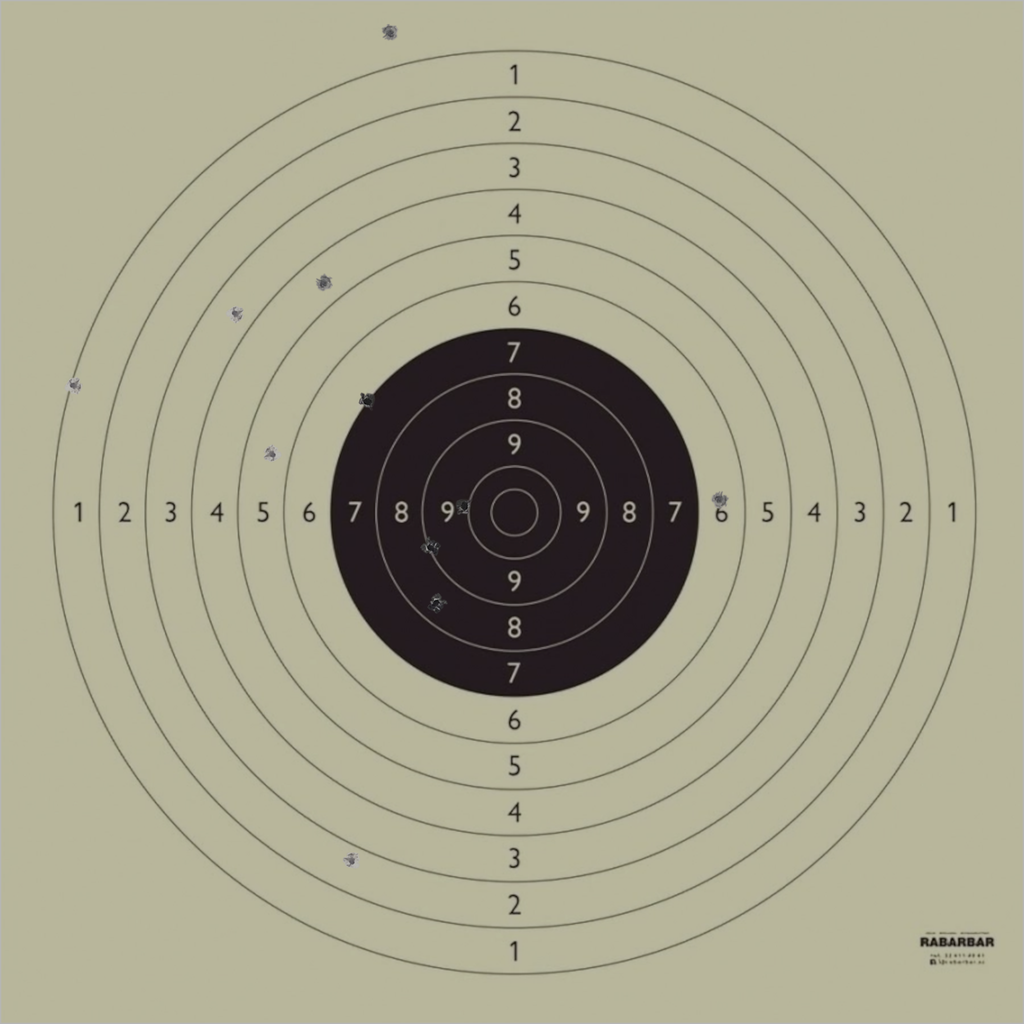0 punktow: (381, 24, 399, 42)
1 punkt: (64, 376, 83, 395)
10 punktow: (455, 497, 474, 516)
2 punkty: (342, 852, 361, 870)
3 punkty: (226, 304, 245, 323)
4 punkty: (314, 274, 333, 293)
5 punktow: (263, 445, 281, 464)
6 punktow: (710, 490, 728, 509)
7 punktow: (358, 392, 376, 411)
8 punktow: (427, 594, 445, 613)
9 punktow: (422, 539, 440, 557)
